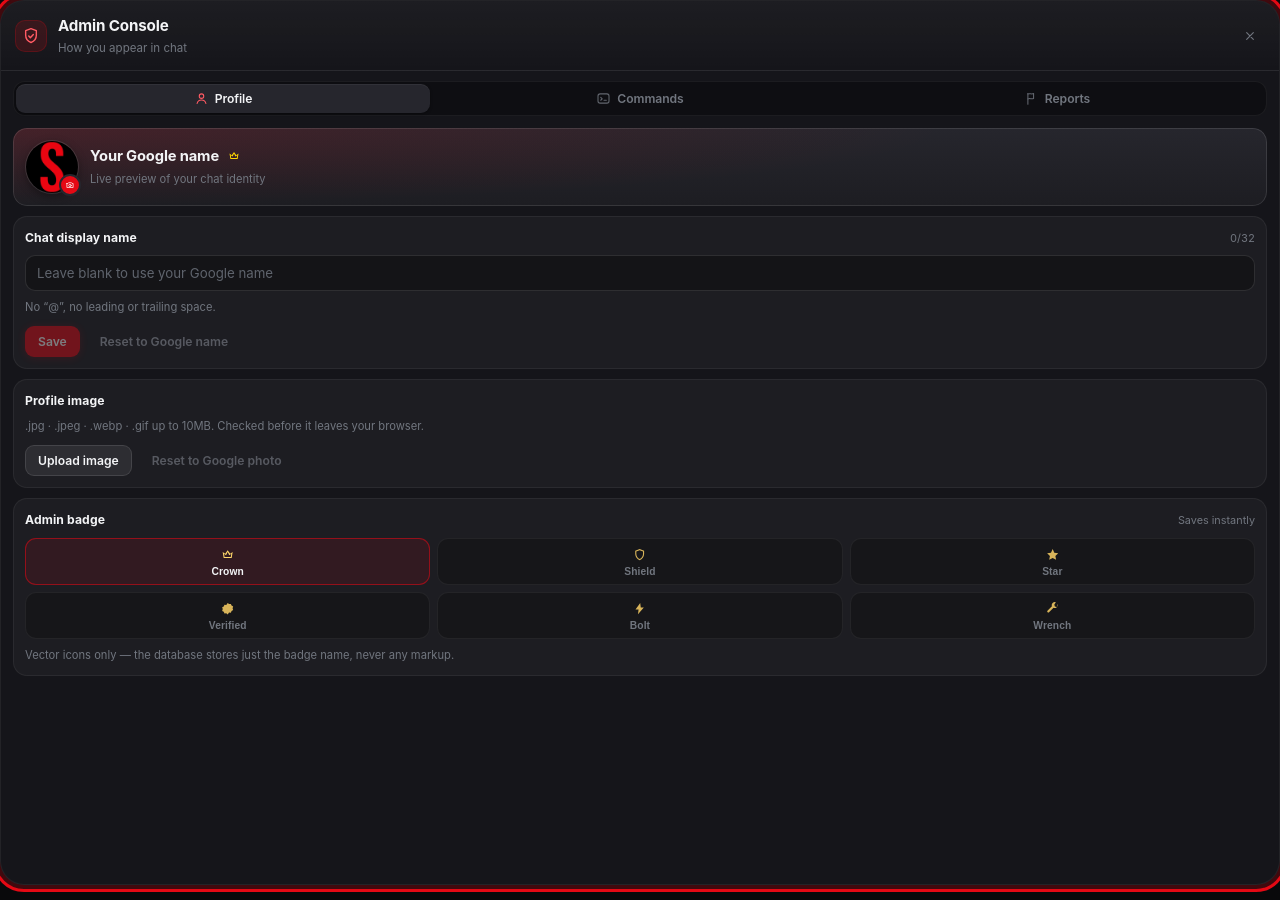
Scenario: GlobalChatAdminDashboard profile section: badge › saves the picked badge id
Click the button "Bolt". click: (640, 616)
box: [437,592,843,639]
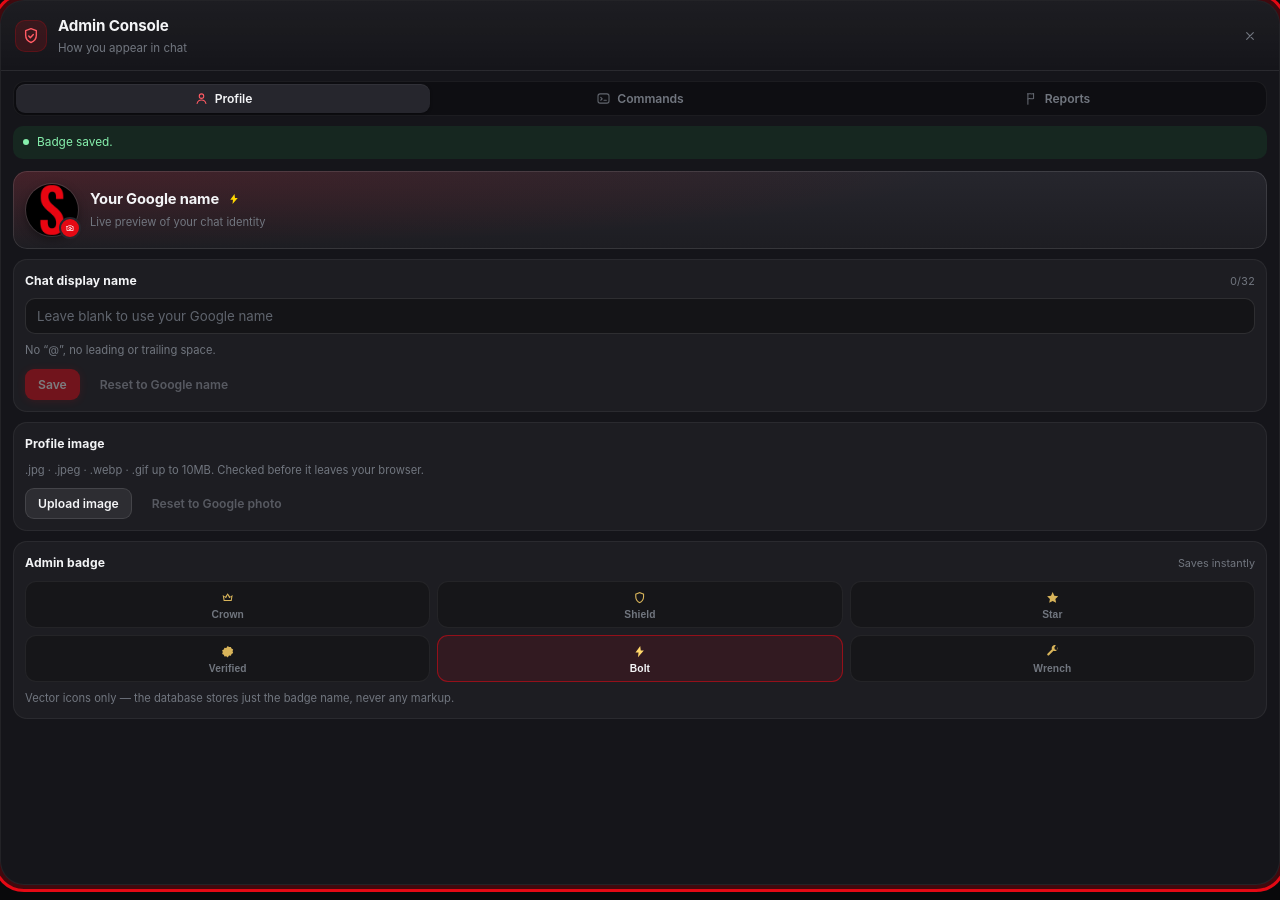
Expected: the text "Badge saved." is shown, [37,134,113,151]
